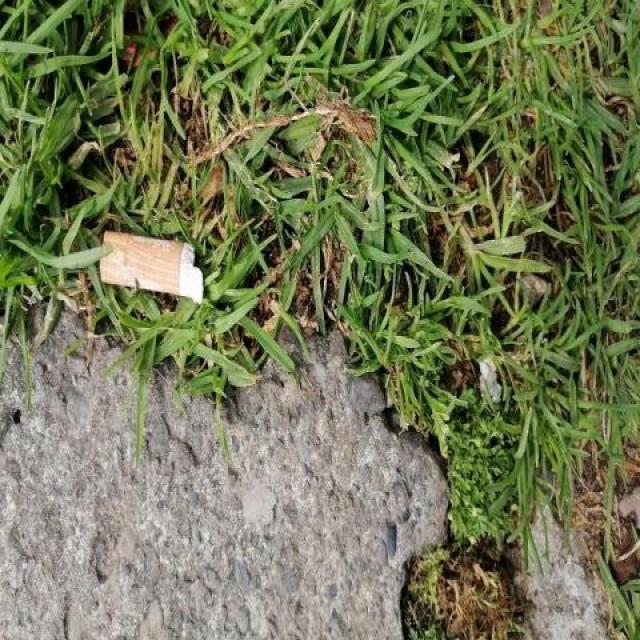non-organic waste: (99, 227, 206, 308)
